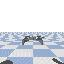drone: (22, 36, 44, 45)
